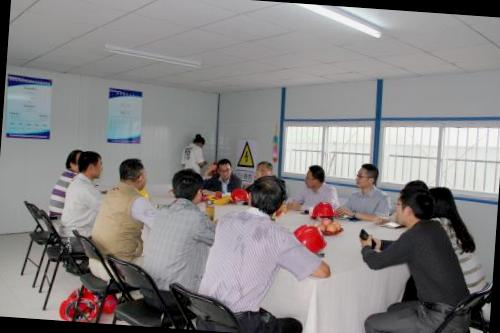no_helmet: (395, 175, 439, 231), (247, 171, 289, 217), (418, 182, 458, 229), (165, 164, 204, 204), (116, 154, 151, 195), (72, 146, 104, 181), (354, 160, 382, 192), (302, 162, 328, 192), (213, 154, 235, 181), (254, 158, 276, 181), (189, 131, 209, 152)
